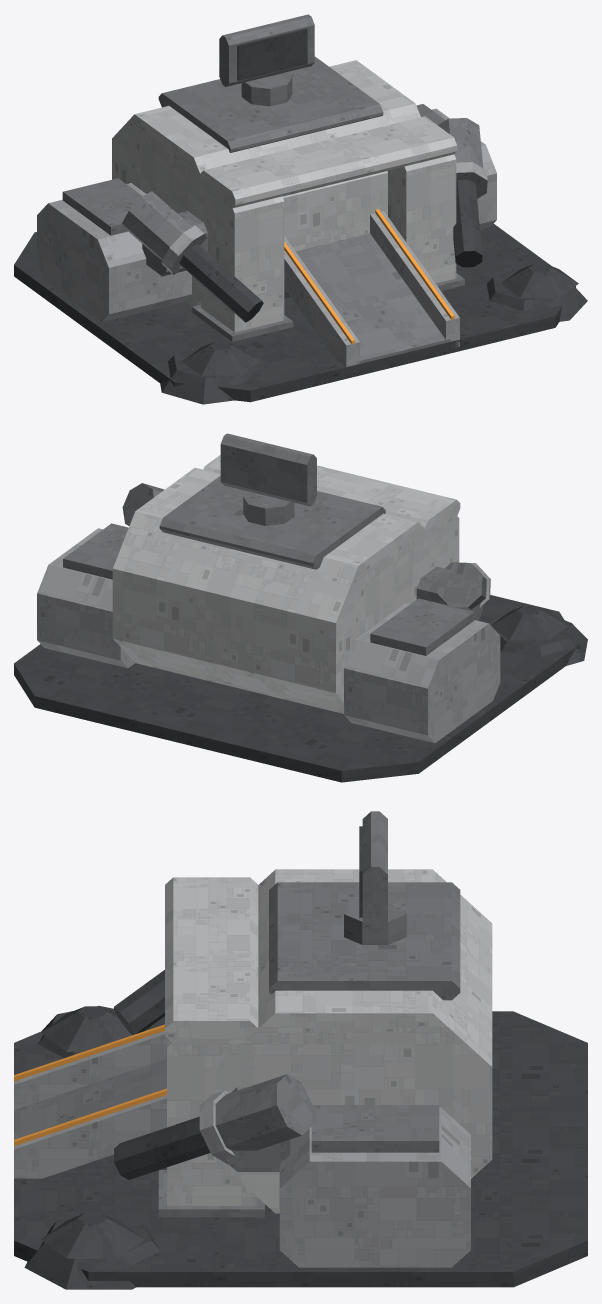
File: rig_auger_lod2.glb
3 views of the same model, one above another, from view 1: azimuth 30°, elevation 25°; view 2: azimuth 150°, elevation 25°; view 3: azimuth 270°, elevation 25° (orthographic). The views are drawn at different scales.
Parts seen in each view (by area): view 1: rig_auger_base_body.002, rig_auger_radar_body.002, rig_auger_auger_l_body.002, rig_auger_auger_r_body.002, rig_auger_base_trim.002; view 2: rig_auger_base_body.002, rig_auger_radar_body.002; view 3: rig_auger_base_body.002, rig_auger_auger_r_body.002, rig_auger_radar_body.002, rig_auger_base_trim.002, rig_auger_auger_l_body.002.
Part boxes in pixels (x1,y1,x2,y2): rig_auger_base_body.002: (14,56,587,404); rig_auger_radar_body.002: (219,14,314,86); rig_auger_auger_l_body.002: (179,243,263,322); rig_auger_auger_r_body.002: (453,179,482,267); rig_auger_base_trim.002: (284,209,454,344); rig_auger_base_body.002: (14,455,587,782); rig_auger_radar_body.002: (220,433,316,506); rig_auger_base_body.002: (14,869,587,1289); rig_auger_auger_r_body.002: (114,1116,210,1179); rig_auger_radar_body.002: (359,811,387,932); rig_auger_base_trim.002: (14,1024,166,1145); rig_auger_auger_l_body.002: (114,970,164,1035).
Bounding box in the file's own units: 2.98 × 1.65 × 2.7.
Materials: 2 (1 with a texture image).
